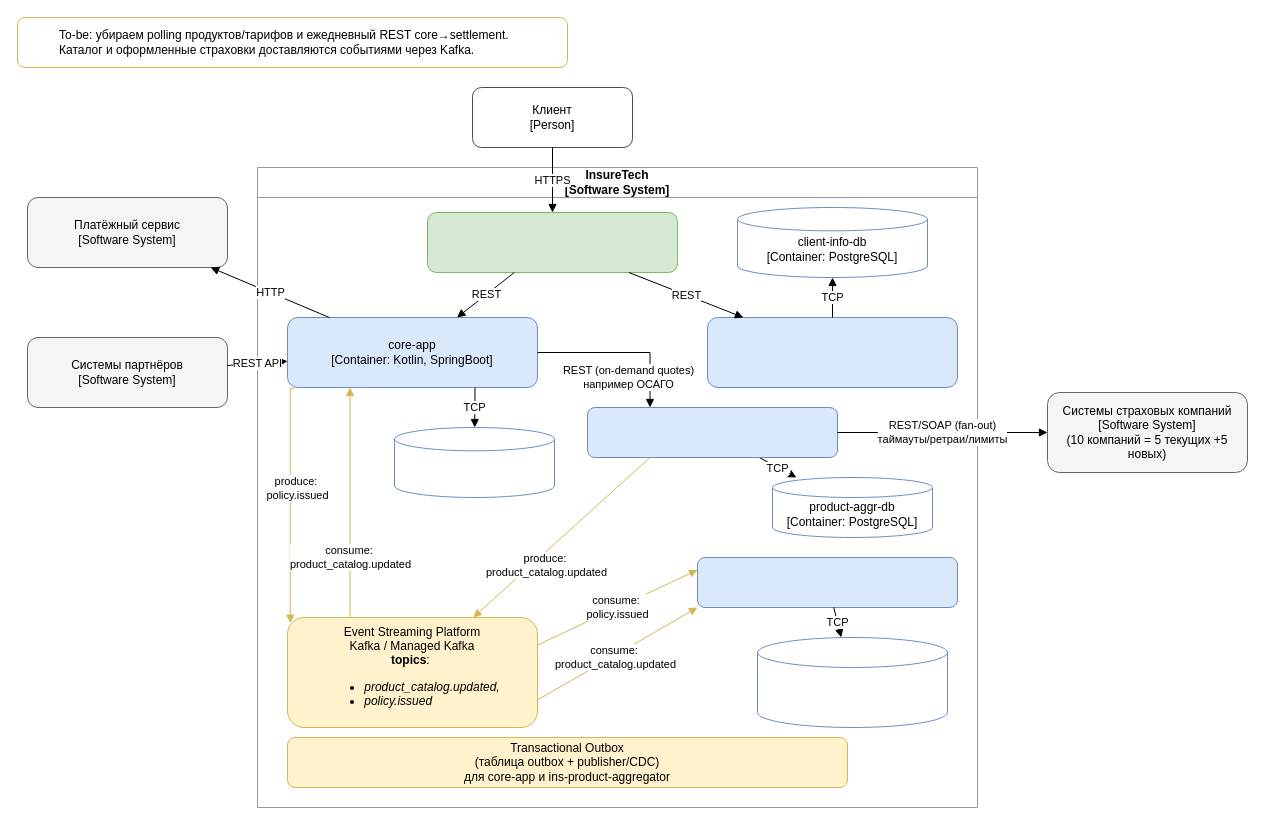
Image size: 1265x825. Some labels were removed from this diagram. Here are the shapes that lost their labels. From the top down, the centre of each, then its label:
At point (552, 242): "InsureTech Web [Container: JavaScript, React]".
At point (832, 352): "client-info [Container: Kotlin, SpringBoot]".
At point (712, 432): "ins-product-aggregator [Container: Kotlin, SpringBoot]".
At point (474, 462): "core-db [Container: PostgreSQL]".
At point (827, 582): "ins-comp-settlement [Container: Kotlin, SpringBoot]".
At point (852, 682): "ins-comp-settlement-db [Container: PostgreSQL]".
